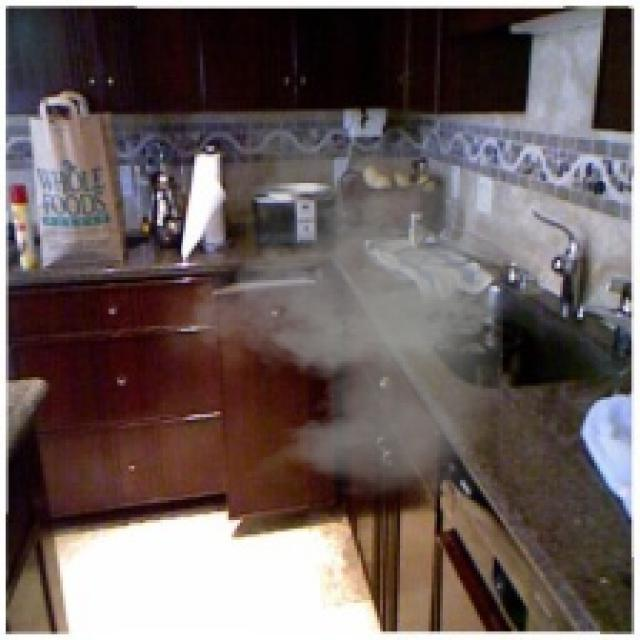Smoke: (175, 128, 574, 500)
